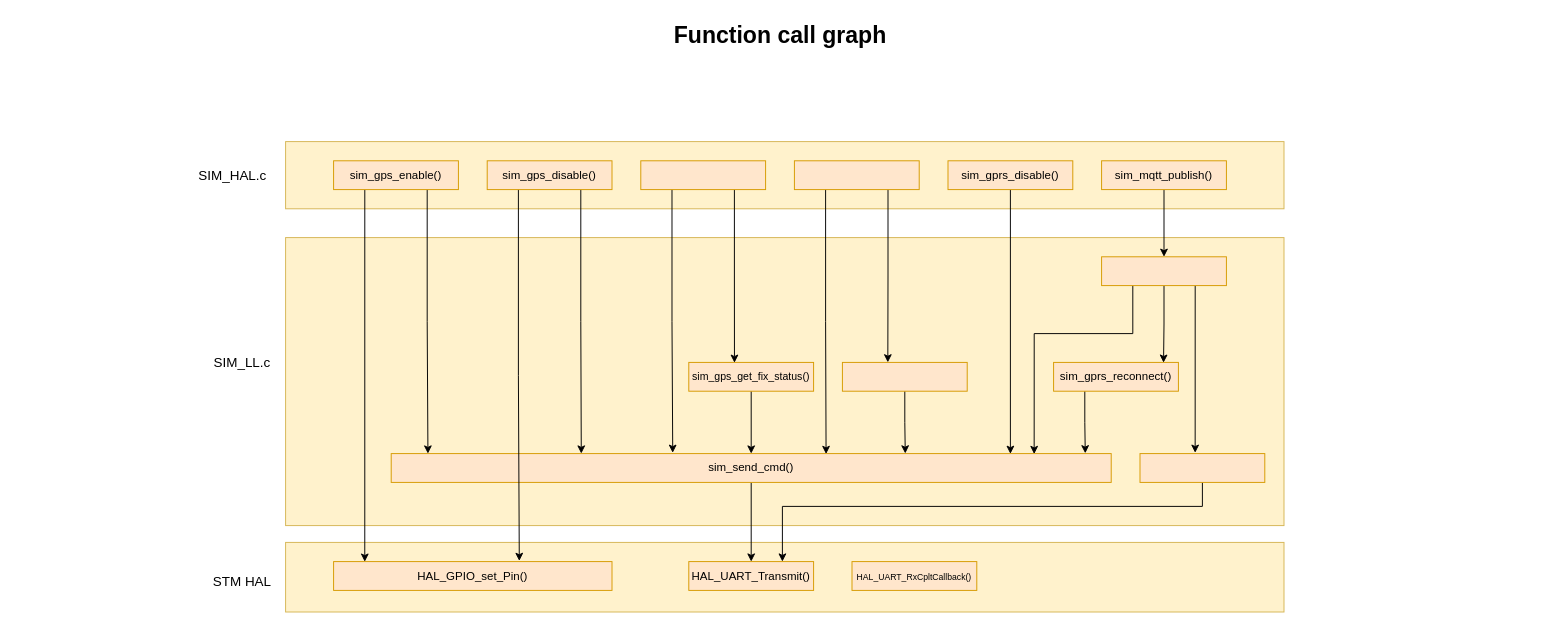
The diagram is 1559 pixels wide and 629 high, and some of its shapes have lost their labels. The shapes that lost their labels are listed below. From the top down, each one's centre as x and y in pixels, then its label:
At point (703, 175): "sim_gps_get_location()".
At point (856, 175): "sim_gprs_enable()".
At point (1163, 271): "sim_tcp_send()".
At point (904, 376): "sim_gprs_insert_PIN()".
At point (1202, 467): "sim_send_raw()".
